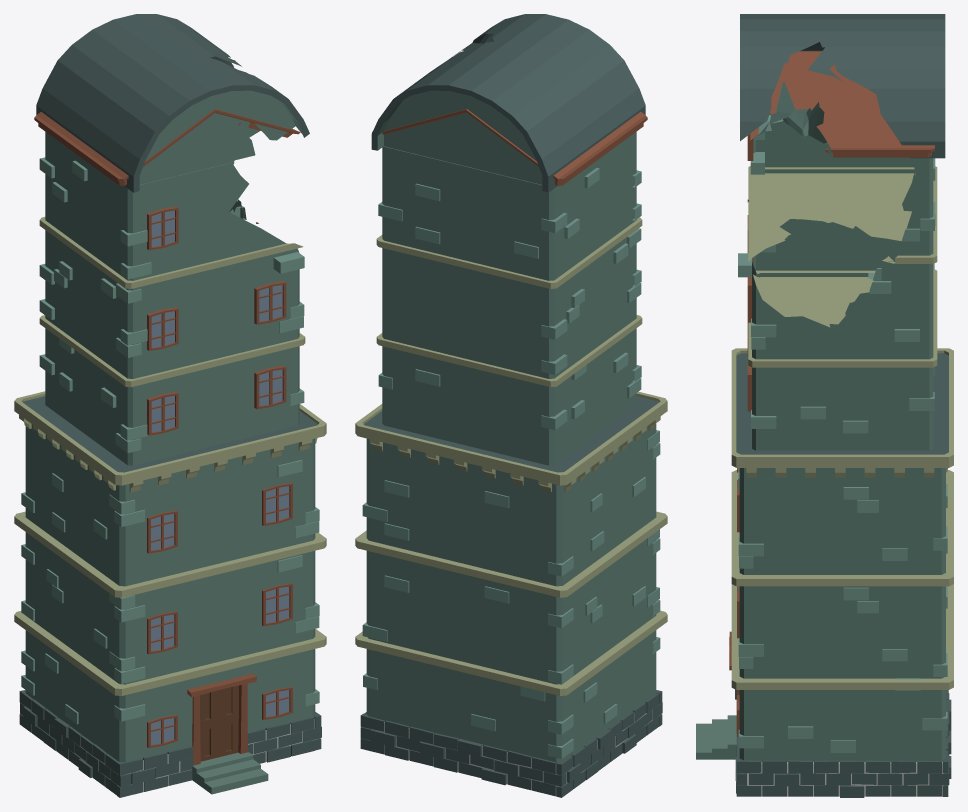
File: double-building.glb
3 views of the same model, side by side, from view 1: azimuth 30°, elevation 25°; view 2: azimuth 150°, elevation 25°; view 3: azimuth 270°, elevation 25° (orthographic). The views are drawn at different scales.
Visible parts, largest first — view 1: BuildingDouble, RoofRound, RoofTriangle; view 2: BuildingDouble, RoofRound, RoofTriangle; view 3: BuildingDouble, RoofRound, RoofTriangle.
Part boxes in pixels (x1,y1,x2,y2): BuildingDouble: (14,132,326,797); RoofRound: (36,14,309,192); RoofTriangle: (34,109,300,185); BuildingDouble: (355,132,667,797); RoofRound: (371,14,645,192); RoofTriangle: (372,109,647,185); BuildingDouble: (696,121,953,797); RoofRound: (740,14,945,158); RoofTriangle: (750,51,934,157).
Size of what is drawn, in the model's own units: 40 by 123 by 40.
